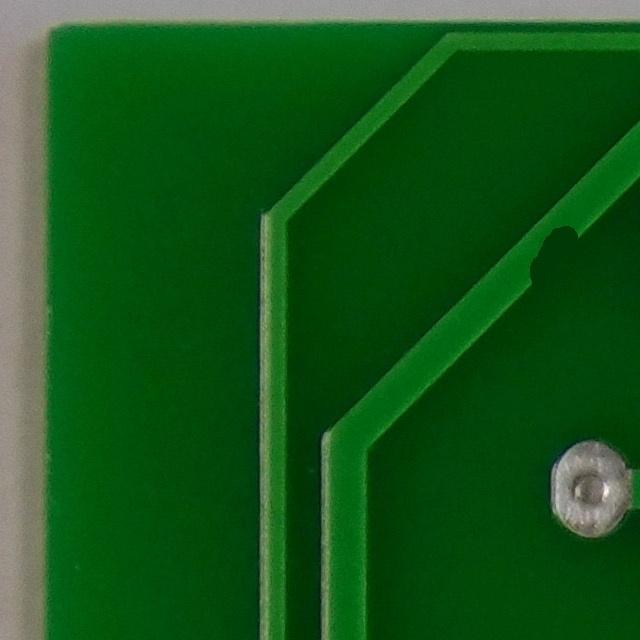mouse_bite: (504, 203, 594, 294)
